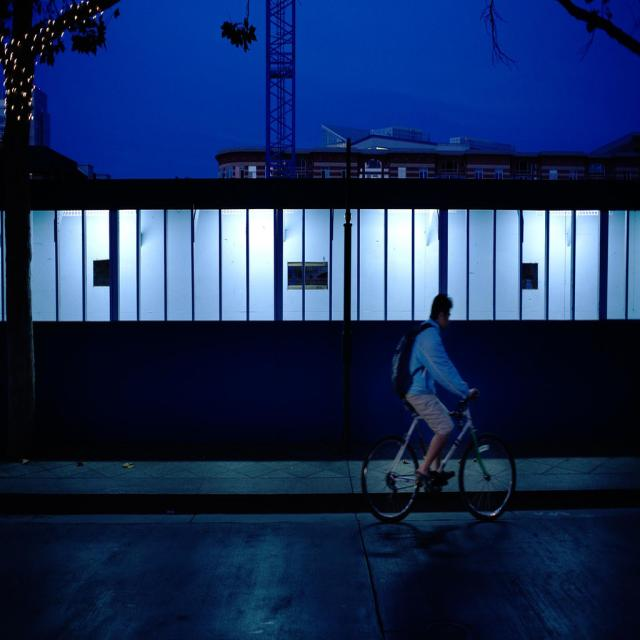Bicycle: (349, 375, 526, 552)
People: (410, 283, 485, 452)
